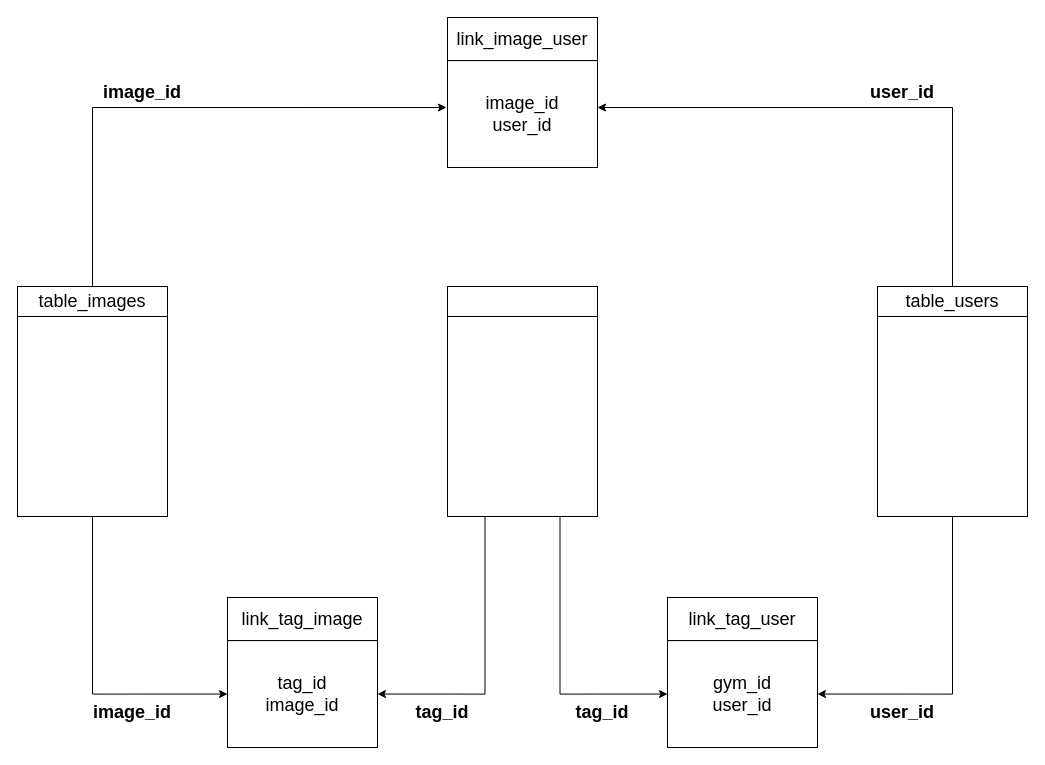
This 1045x765 diagram has some shape labels left out. Here are the shapes that lost their labels. From the top down, the centre of each, then its label:
At (522,301): "table_tags".
At (92,416): "image_id image_file image_up_date image_source".
At (522,416): "tag_id tag_name tag_type".
At (952,416): "user_id user_name user_pass user_email user_last_logon".
